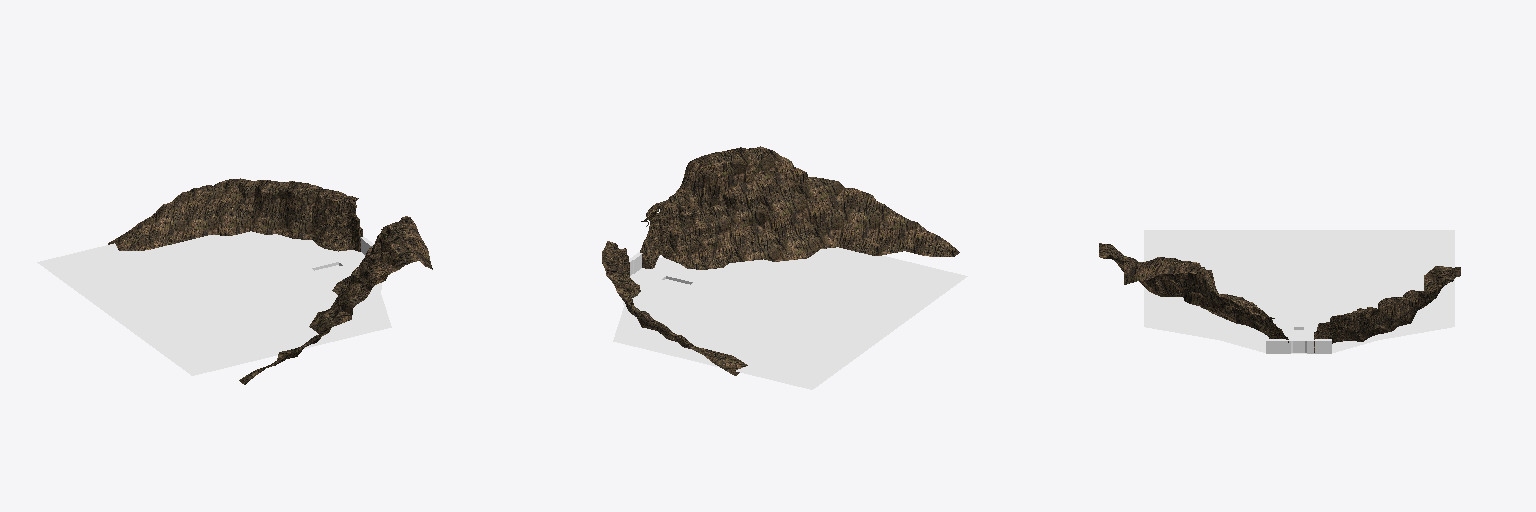
3 views of the same model, side by side, from view 1: azimuth 30°, elevation 25°; view 2: azimuth 150°, elevation 25°; view 3: azimuth 270°, elevation 25° (orthographic).
Parts seen in each view (by area): view 1: mesh6, mesh4, mesh3; view 2: mesh6, mesh3, mesh4; view 3: mesh6, mesh3, mesh4, mesh0.
Boxes of the visible parts, <box> form: mesh6: <box>37,231,391,375</box>; mesh4: <box>108,178,362,251</box>; mesh3: <box>239,216,432,384</box>; mesh6: <box>613,247,967,389</box>; mesh3: <box>640,146,959,269</box>; mesh4: <box>602,241,747,375</box>; mesh6: <box>1144,230,1454,353</box>; mesh3: <box>1099,243,1288,342</box>; mesh4: <box>1314,266,1460,352</box>; mesh0: <box>1266,341,1331,353</box>.
Bounding box in the file's own units: 976 × 289 × 1161.
7 materials, 2 textured.